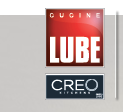creo: (44, 73, 105, 100)
lube: (44, 7, 105, 66)
